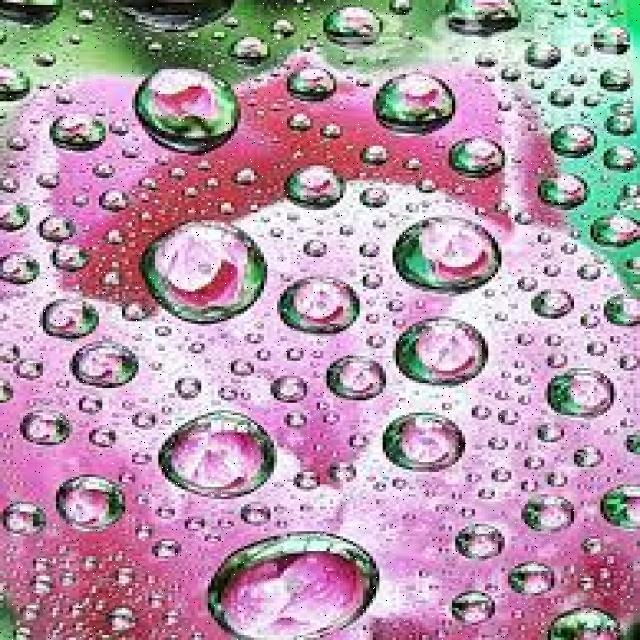raindrop: (184, 510, 388, 640), (124, 208, 300, 330), (142, 395, 300, 515), (118, 49, 256, 168), (394, 207, 525, 310), (266, 256, 382, 352), (362, 39, 469, 140), (385, 310, 503, 398), (372, 401, 469, 495), (44, 462, 140, 544), (532, 349, 626, 426)
